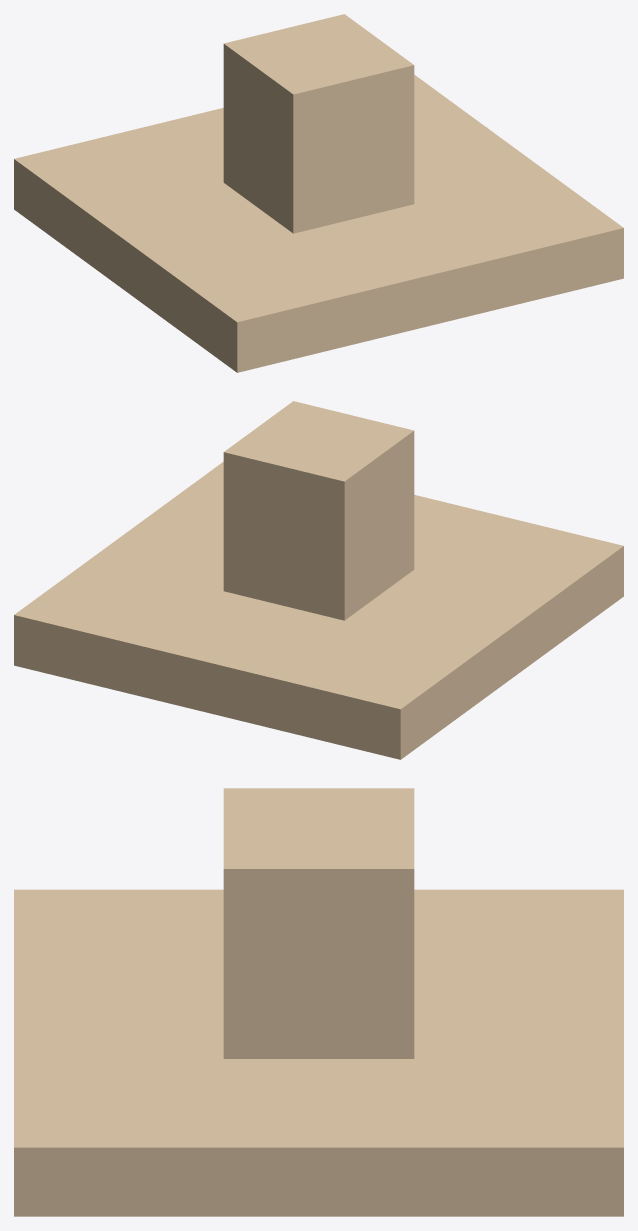
The model's file is nagara_s2.glb.
3 views of the same model, one above another, from view 1: azimuth 30°, elevation 25°; view 2: azimuth 150°, elevation 25°; view 3: azimuth 270°, elevation 25° (orthographic). The views are drawn at different scales.
Visible parts, largest first — view 1: nagara; view 2: nagara; view 3: nagara.
Boxes of the visible parts, x1,y1,x2,y2 form: nagara: (14,14,623,372); nagara: (14,401,623,759); nagara: (14,788,623,1216).
Size of the model in its own units: 21.33 by 10 by 21.33.
